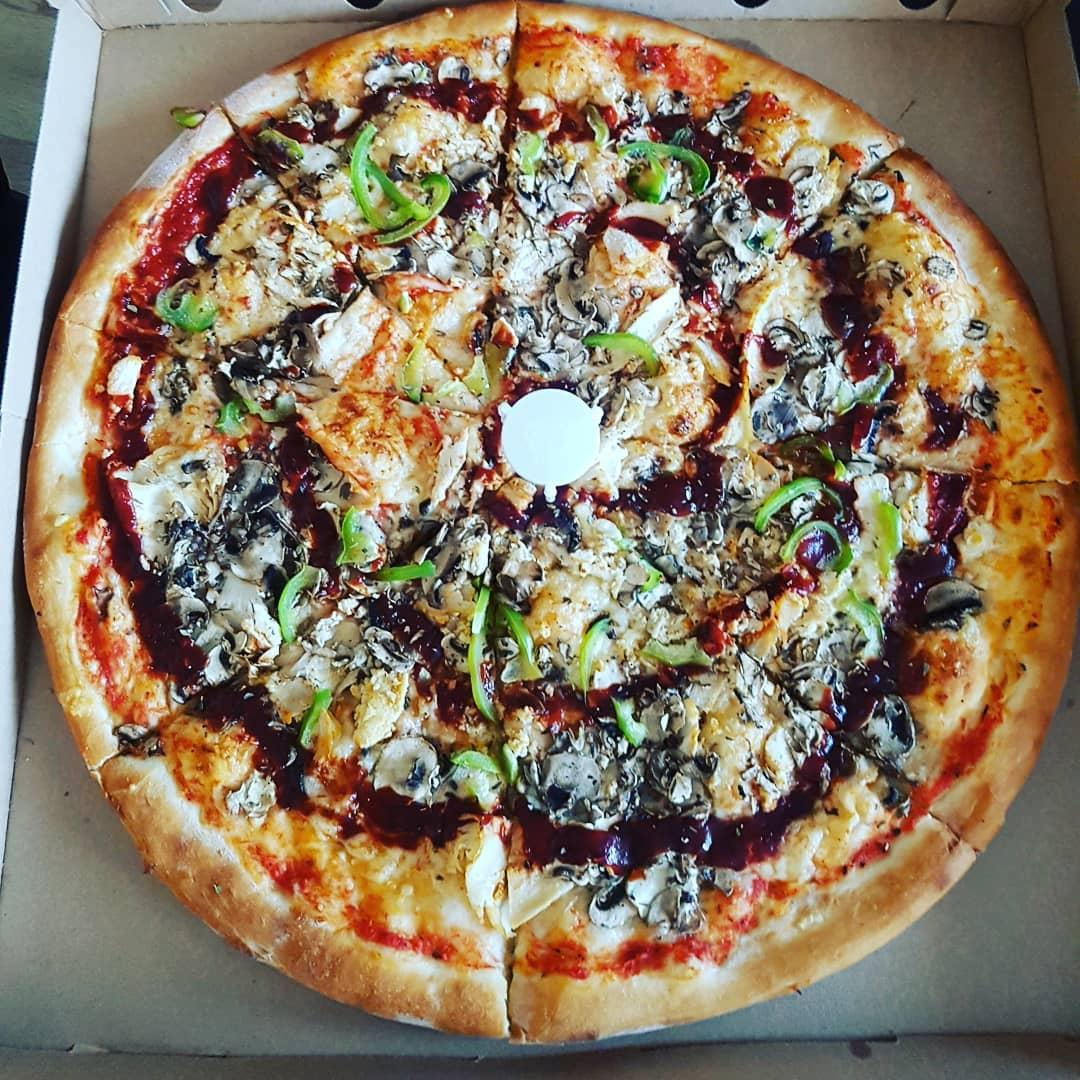Chicken: (855, 467, 933, 558), (317, 293, 386, 382), (621, 285, 712, 349), (595, 227, 673, 285), (565, 523, 632, 586), (349, 673, 409, 742), (763, 721, 806, 798)
Mushroom: (535, 753, 701, 809), (222, 457, 283, 579), (457, 533, 545, 583), (373, 738, 436, 798), (551, 254, 598, 325), (713, 203, 762, 266), (362, 48, 428, 93), (362, 625, 417, 677), (922, 577, 979, 619), (877, 696, 914, 757), (206, 631, 247, 682), (454, 161, 494, 188)
Peppers: (386, 172, 453, 242), (494, 599, 547, 685), (780, 521, 853, 575), (352, 121, 386, 234), (755, 479, 819, 533), (585, 332, 662, 376), (468, 587, 494, 717), (619, 139, 712, 173), (215, 397, 294, 436), (277, 565, 315, 646), (834, 365, 894, 415), (455, 739, 517, 786), (159, 286, 221, 332), (845, 588, 886, 654), (873, 499, 903, 579), (582, 617, 606, 702), (638, 636, 703, 666), (299, 687, 329, 752), (376, 557, 436, 584), (404, 340, 427, 405), (338, 504, 360, 569), (613, 698, 644, 743), (631, 173, 673, 203)
Pizza: (20, 0, 1080, 1043)
